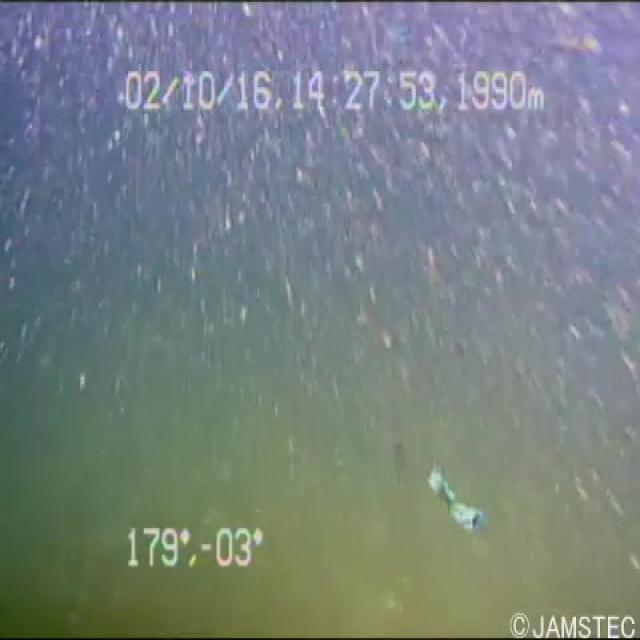plastic: (406, 428, 514, 554)
